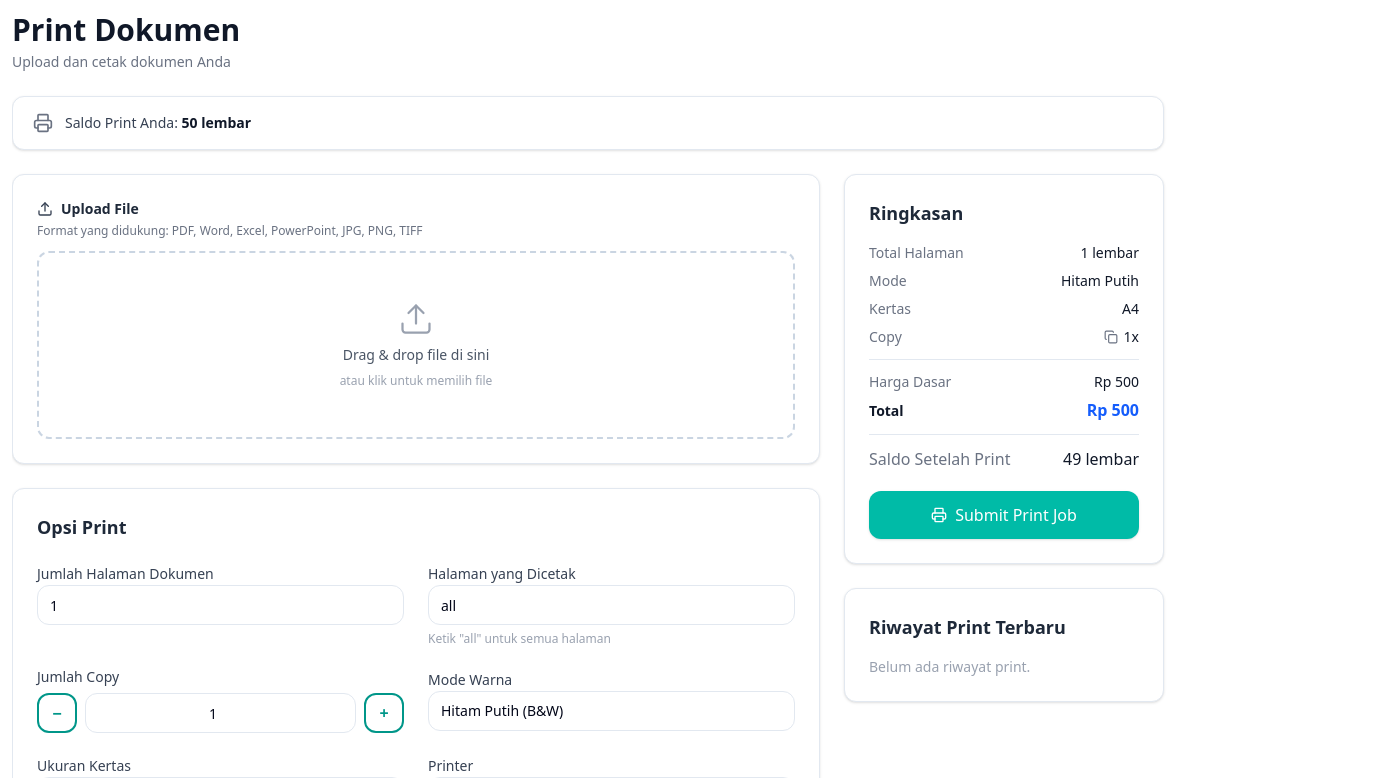
Test: PrintClient (AC-0239 / AC-0240) › AC-0240: submit + error surface › AC-0240: on unknown error rejection, shows generic fallback message
Click the button "Submit Print Job": (1004, 515) [869,491,1139,539]
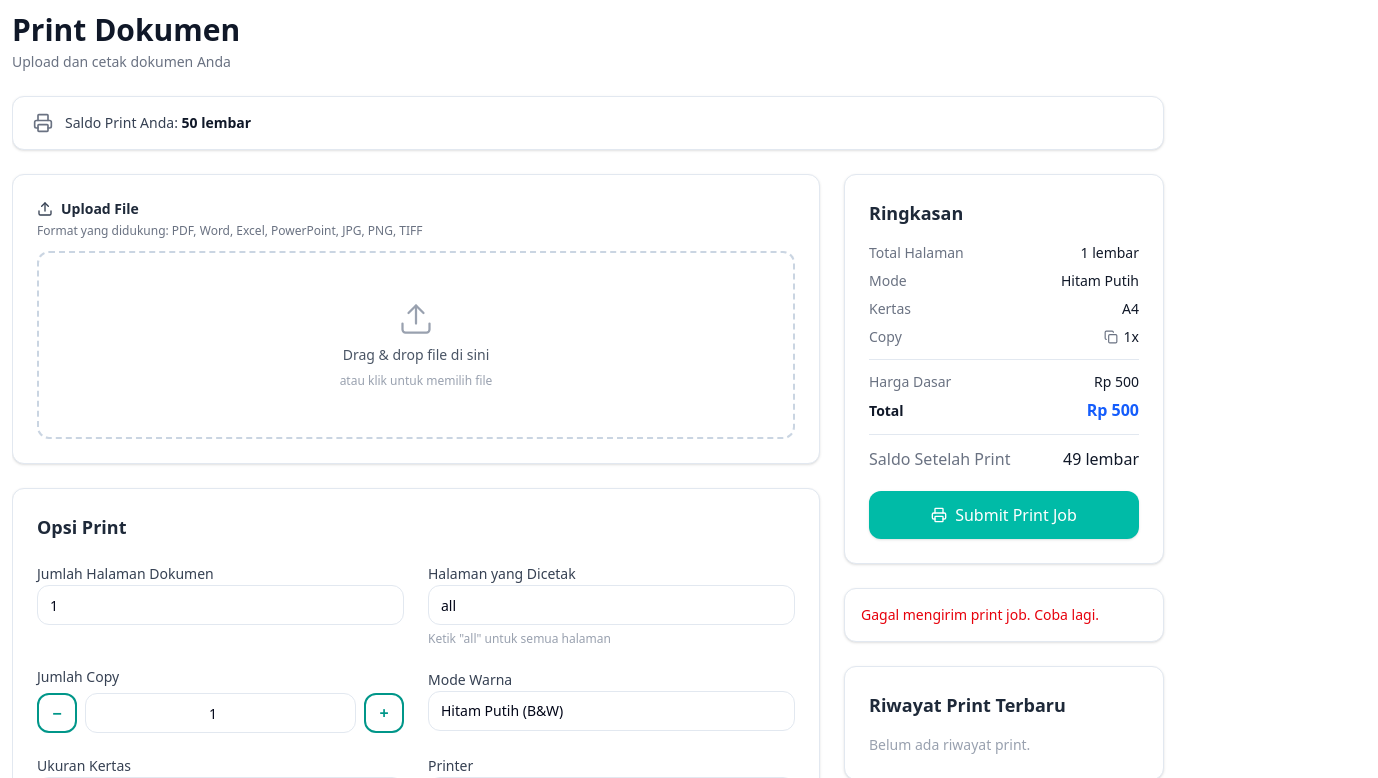
Expected: the text "Gagal mengirim print job. Coba lagi." is shown, [861,605,1099,624]
